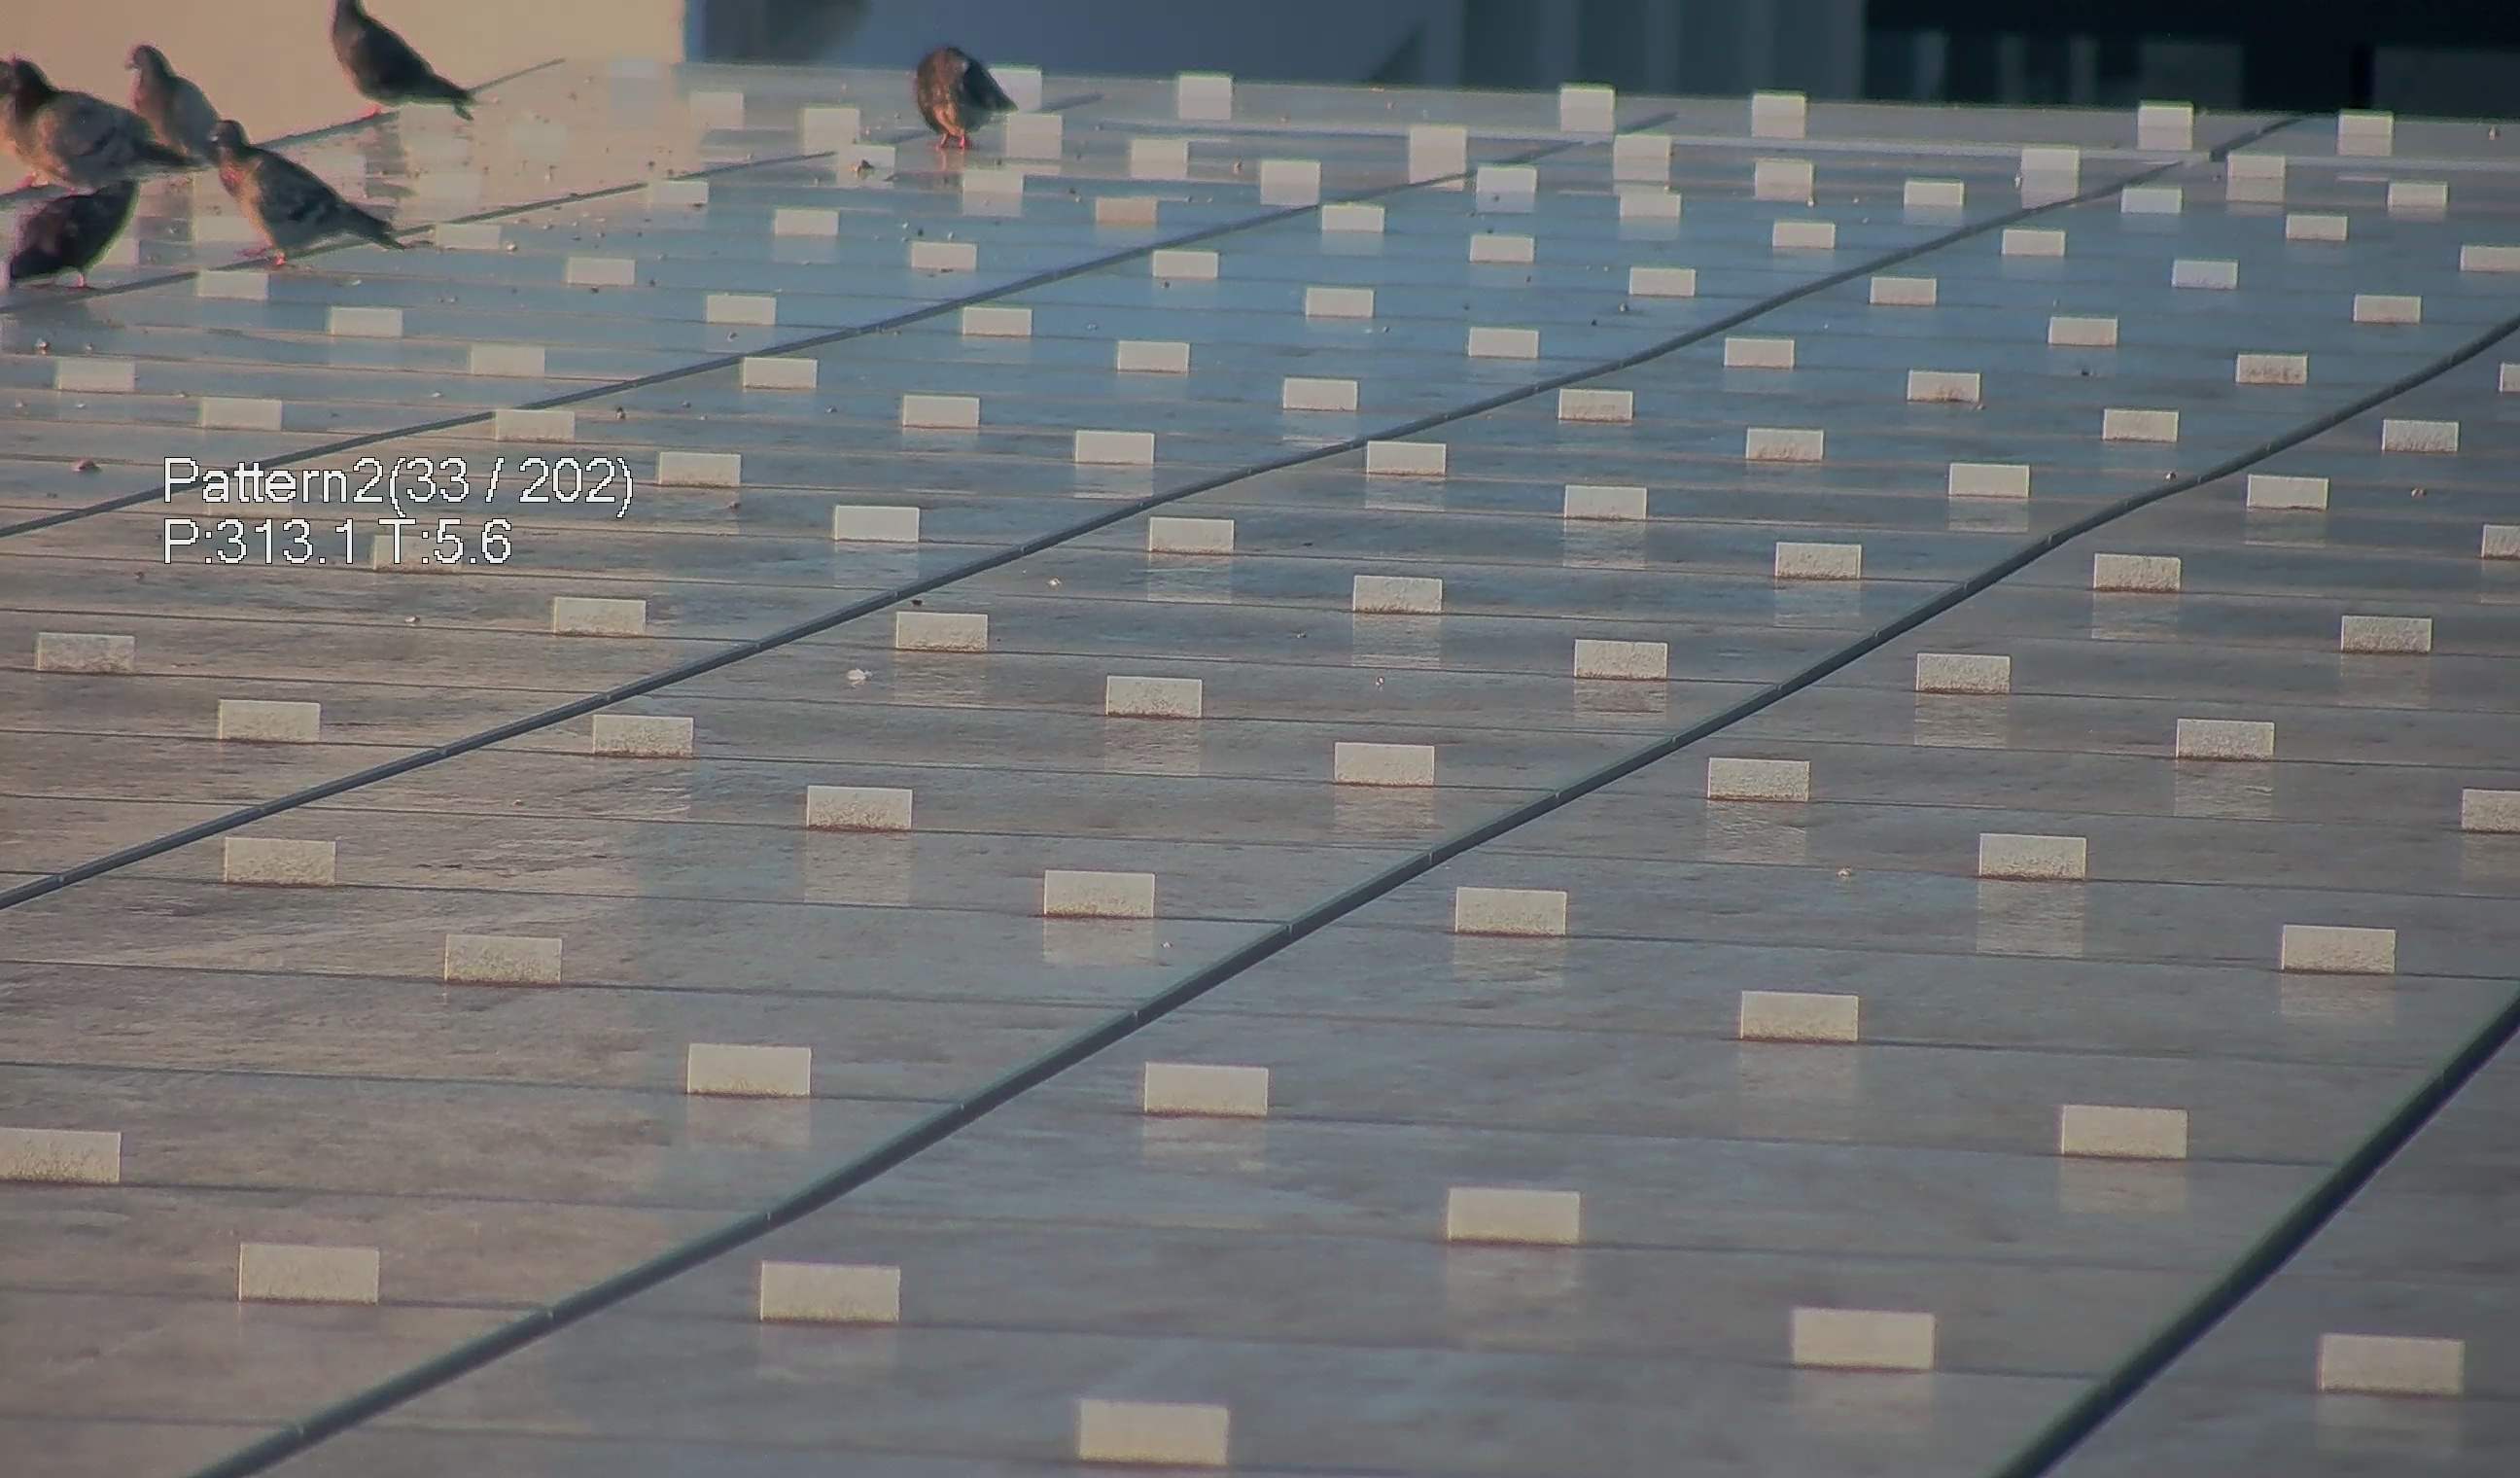Pigeon: (192, 100, 403, 264), (2, 53, 179, 201), (308, 2, 484, 118), (897, 28, 1034, 169), (118, 33, 251, 178), (2, 171, 144, 294)
